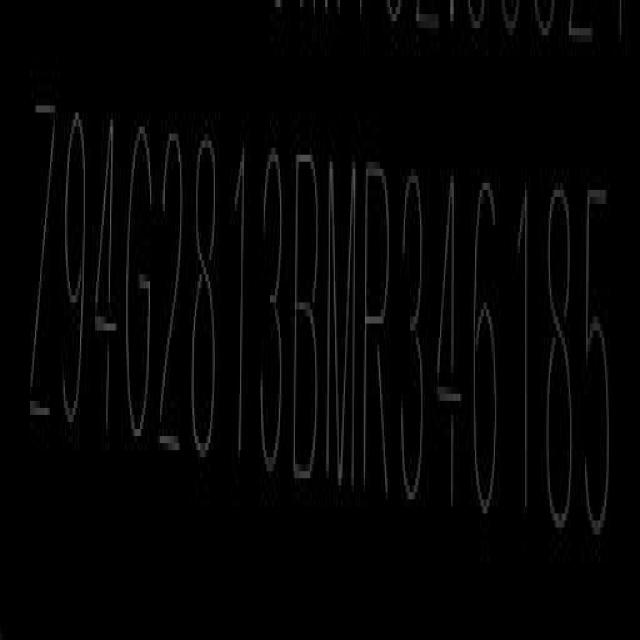1: (512, 172, 532, 532), (230, 136, 250, 472)
2: (159, 120, 186, 458)
3: (400, 166, 430, 510), (258, 133, 286, 482)
4: (435, 166, 464, 524), (94, 103, 120, 445)
5: (585, 181, 616, 549)
6: (469, 176, 501, 531)
8: (544, 180, 576, 550), (192, 122, 221, 461)
9: (60, 100, 87, 446)
B: (295, 143, 324, 486)
G: (127, 117, 158, 456)
M: (326, 152, 357, 497)
R: (364, 154, 396, 502)
Z: (27, 91, 56, 444)
